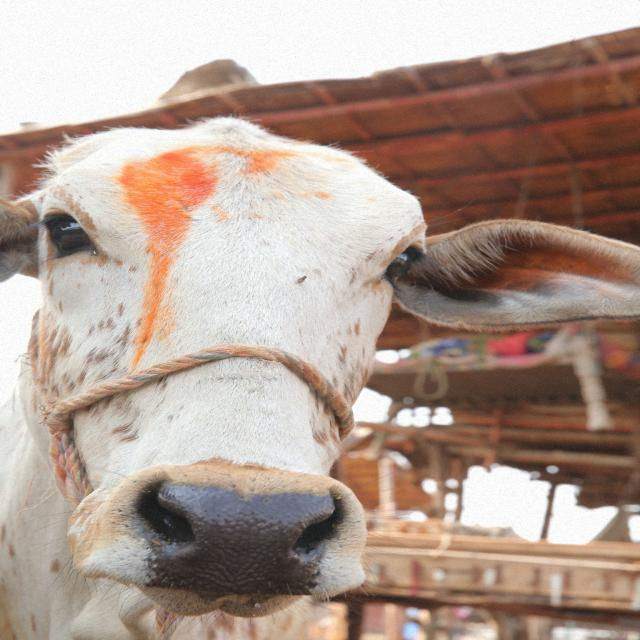muzzles: (118, 465, 353, 604)
